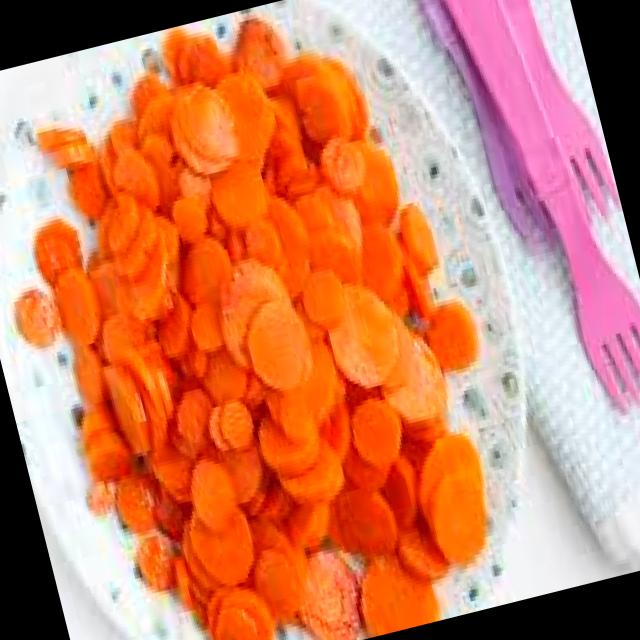Carrot: (313, 259, 411, 396), (199, 64, 306, 170), (337, 545, 450, 640), (194, 132, 288, 246), (228, 282, 322, 384), (91, 356, 184, 456), (179, 492, 258, 606), (424, 470, 499, 580), (282, 57, 356, 150), (95, 220, 173, 302), (370, 332, 435, 420), (258, 414, 334, 489), (42, 253, 101, 330), (206, 583, 280, 640)
